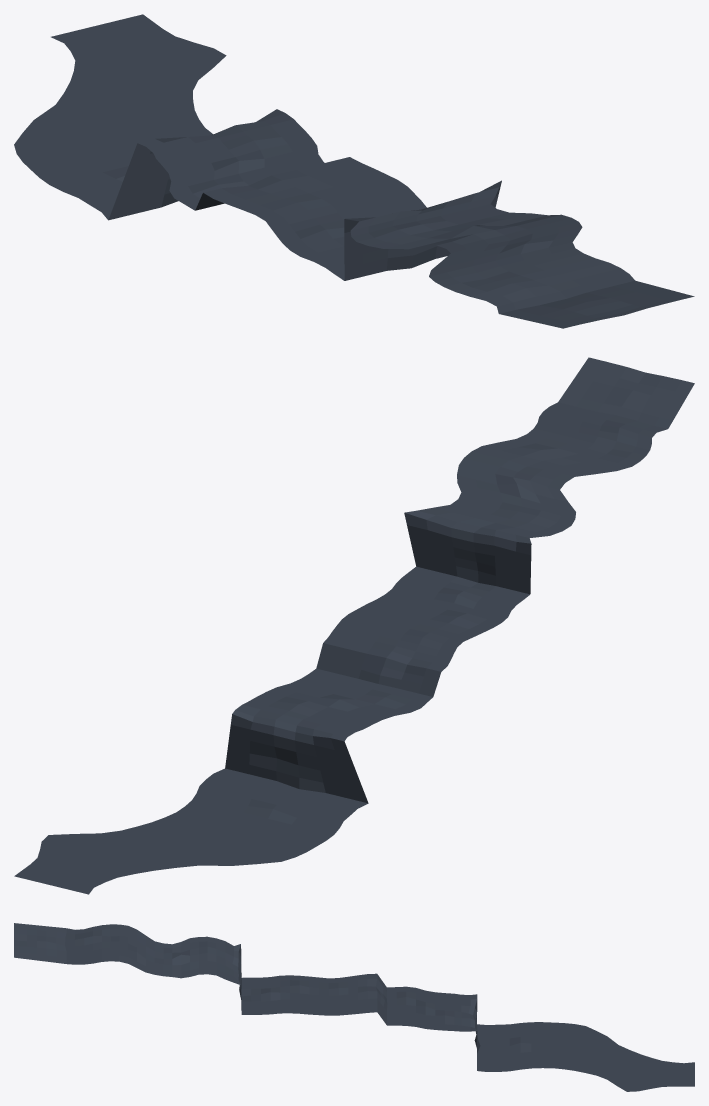
File: Waterfall mesh.fbx
3 views of the same model, one above another, from view 1: azimuth 30°, elevation 25°; view 2: azimuth 150°, elevation 25°; view 3: azimuth 270°, elevation 25° (orthographic). The views are drawn at different scales.
Visible parts, largest first — view 1: River; view 2: River; view 3: River.
Part boxes in pixels (x1,y1,x2,y2): River: (14, 14, 694, 328); River: (14, 357, 694, 894); River: (14, 923, 694, 1091).
Bounding box in the file's own units: 136 × 98.19 × 562.
